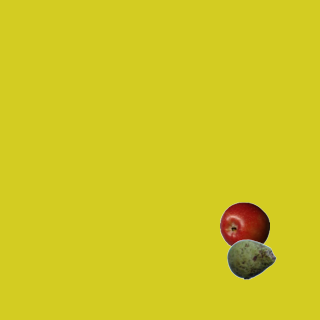Apple Braeburn: (219, 201, 269, 251)
Pear Stone: (226, 234, 276, 284)
